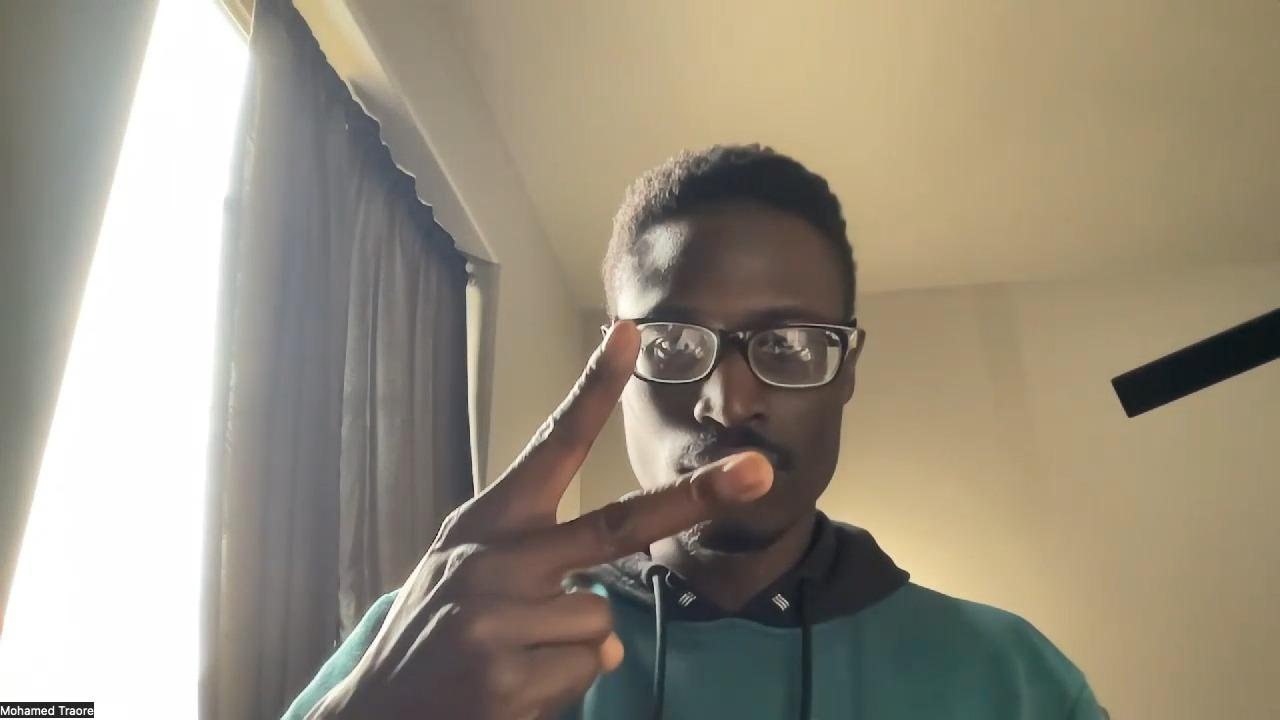Scissors: (355, 320, 773, 720)
